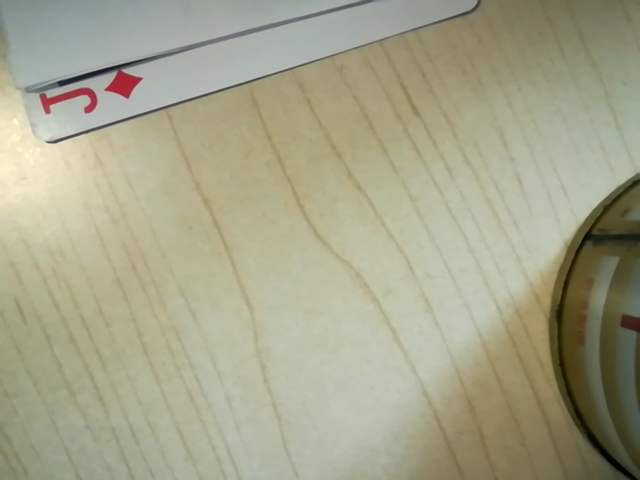fk j: (30, 62, 148, 129)
